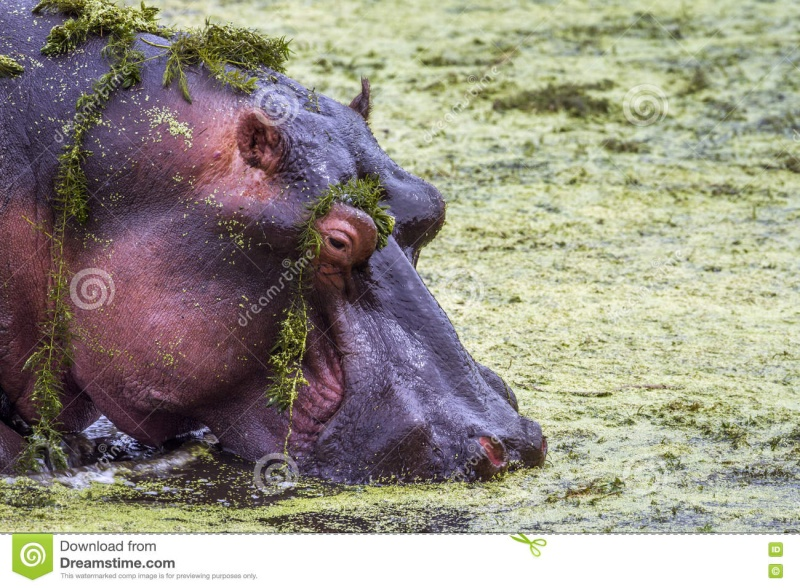hipopotamo: (1, 0, 561, 499)
